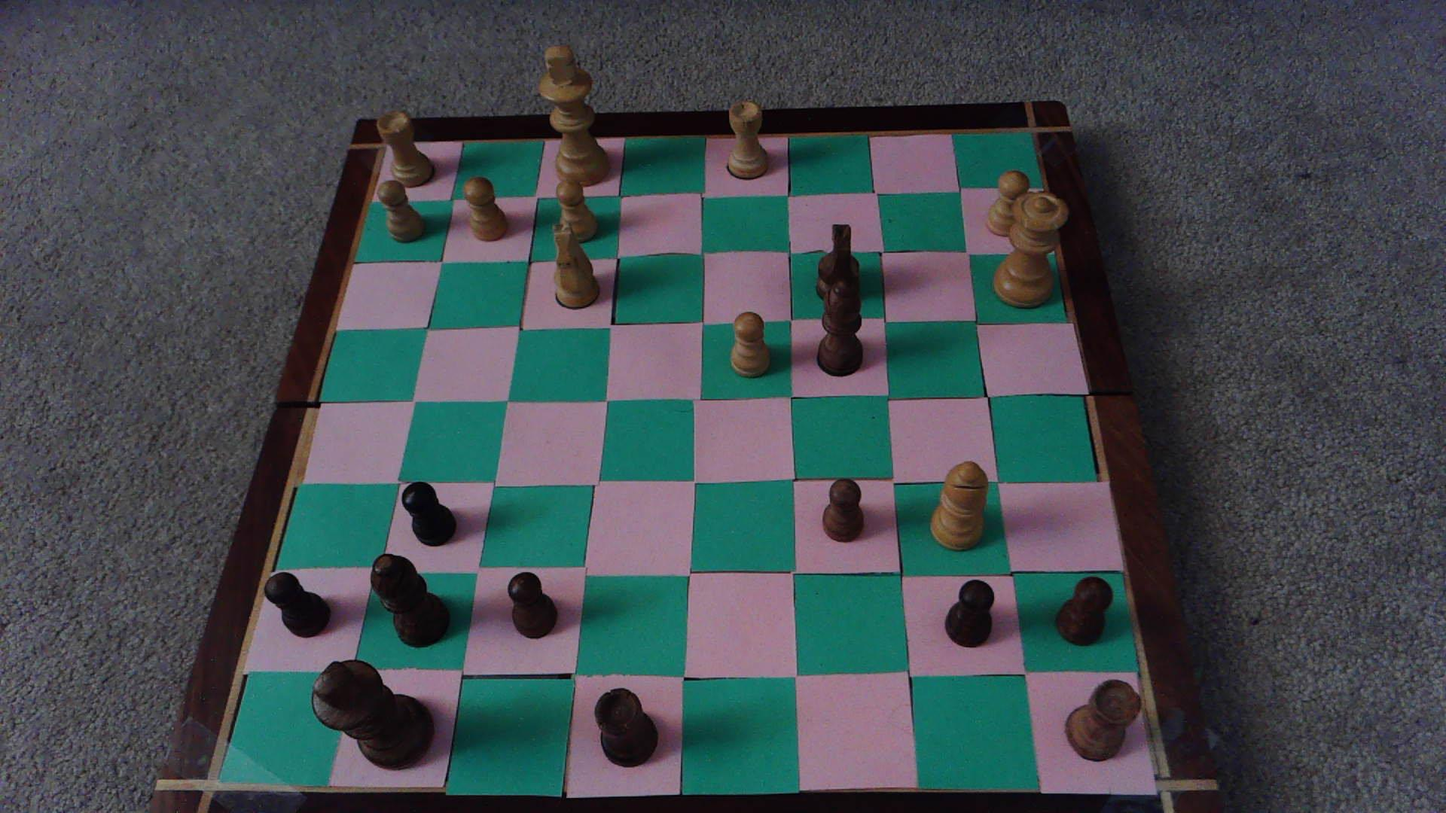dark_piece: (313, 660, 432, 769), (372, 554, 447, 647), (1066, 680, 1140, 760), (595, 688, 657, 766), (817, 281, 862, 377), (265, 573, 329, 636), (1057, 577, 1112, 645), (816, 223, 861, 305), (402, 483, 455, 546), (508, 572, 557, 638), (945, 580, 993, 647), (822, 479, 863, 541)
white_piece: (537, 44, 611, 185), (994, 192, 1067, 306), (931, 461, 987, 550), (549, 222, 598, 309), (377, 112, 433, 187), (726, 101, 770, 179), (376, 179, 425, 244), (984, 171, 1030, 239), (728, 312, 771, 380), (464, 176, 507, 241), (556, 179, 598, 243)
